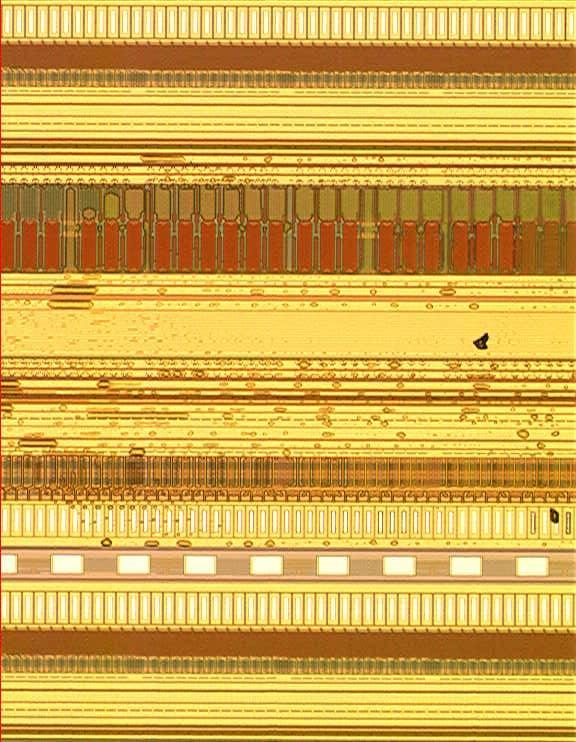PO CONTAMINATION: (1, 148, 576, 552)
